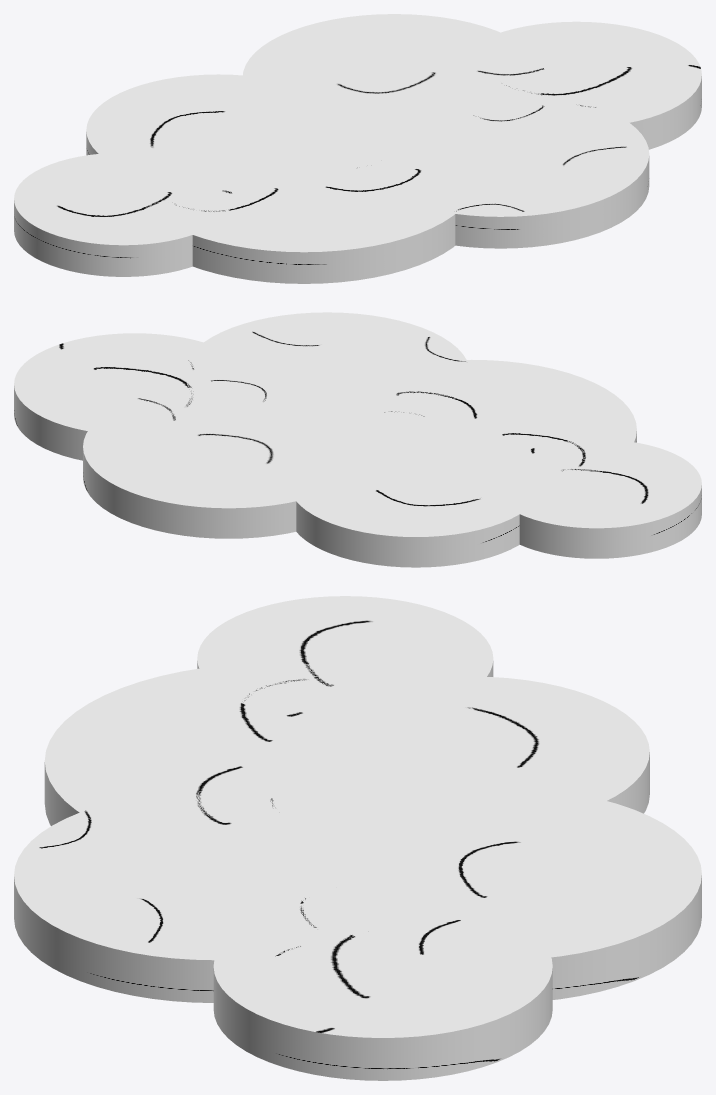
The model's file is cloud2.obj.
3 views of the same model, one above another, from view 1: azimuth 30°, elevation 25°; view 2: azimuth 150°, elevation 25°; view 3: azimuth 270°, elevation 25° (orthographic). The views are drawn at different scales.
Visible parts, largest first — view 1: Cylinder.007; view 2: Cylinder.007; view 3: Cylinder.007.
Boxes of the visible parts, <box> form: Cylinder.007: <box>14,14,701,283</box>; Cylinder.007: <box>14,312,701,567</box>; Cylinder.007: <box>14,596,701,1080</box>.
Bounding box in the file's own units: 3.4 × 0.1537 × 2.24.
